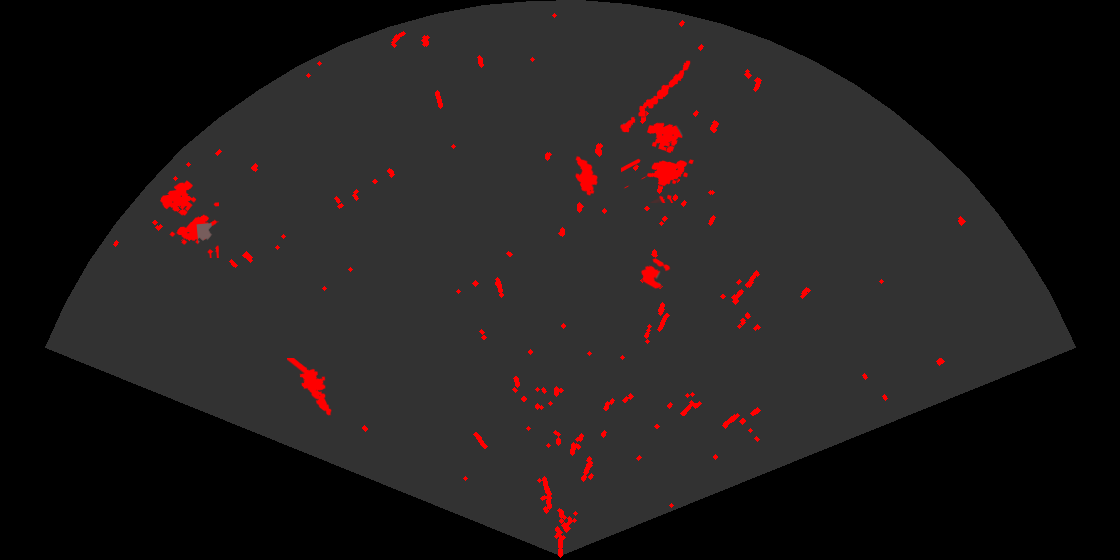AUV: (574, 154, 600, 197)
ball: (639, 257, 672, 291)
cage: (621, 121, 695, 203), (159, 179, 219, 258)
chain: (618, 59, 692, 134)
frogman: (287, 358, 333, 417)
